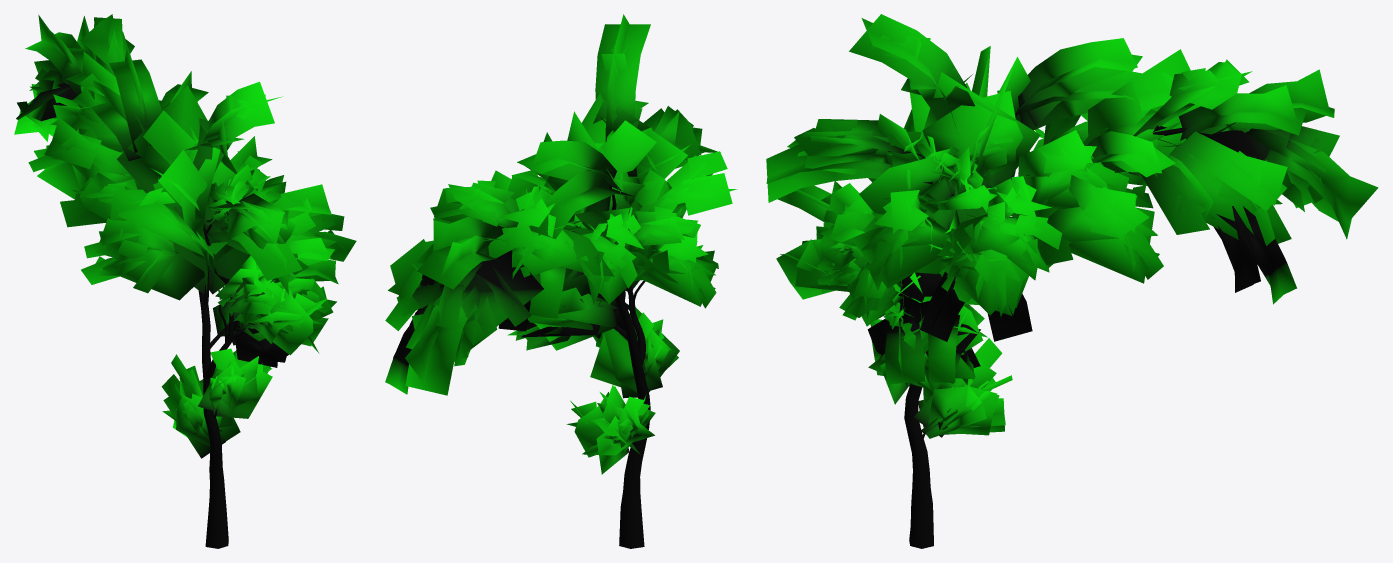
The picture shows the model from 3 angles, left to right: view 1: azimuth 30°, elevation 25°; view 2: azimuth 150°, elevation 25°; view 3: azimuth 270°, elevation 25°; orthographic projection. The views are drawn at different scales.
Visible parts, largest first — view 1: SM_TR_PaperFlower_3m_HD; view 2: SM_TR_PaperFlower_3m_HD; view 3: SM_TR_PaperFlower_3m_HD.
Part boxes in pixels (<box>): SM_TR_PaperFlower_3m_HD: <box>14,14,356,548</box>; SM_TR_PaperFlower_3m_HD: <box>385,14,737,548</box>; SM_TR_PaperFlower_3m_HD: <box>766,14,1378,548</box>.
Bounding box in the file's own units: 134 × 67.45 × 131.
